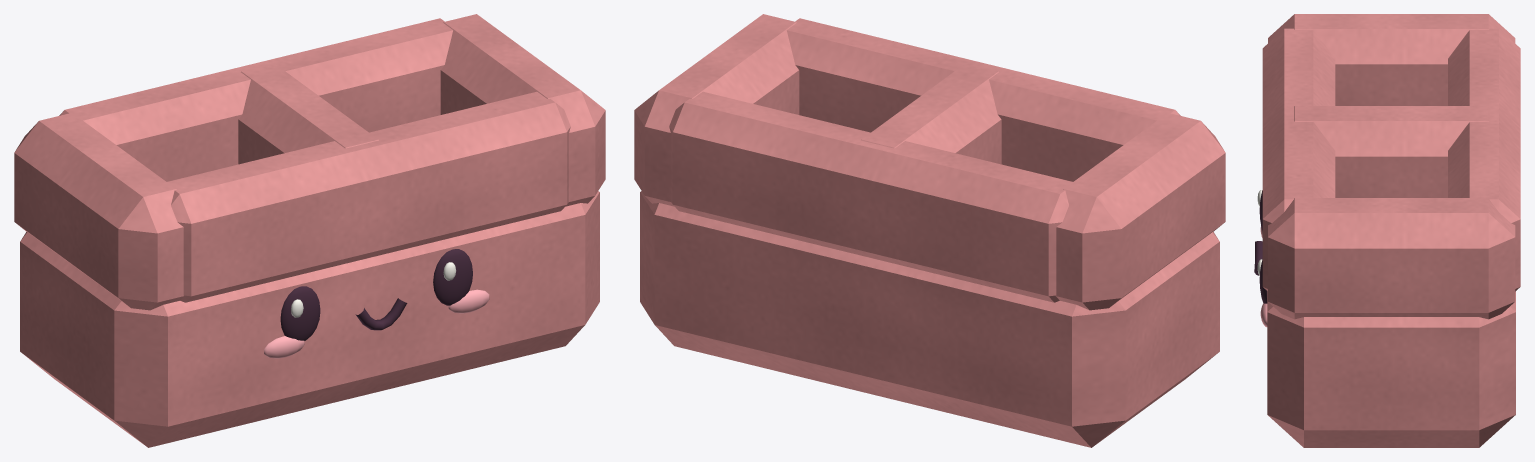
The model's file is block.glb.
The picture shows the model from 3 angles, left to right: view 1: azimuth 30°, elevation 25°; view 2: azimuth 150°, elevation 25°; view 3: azimuth 270°, elevation 25°; orthographic projection. The views are drawn at different scales.
Visible parts, largest first — view 1: block; view 2: block; view 3: block.
Part boxes in pixels (left/top/right/bottom): block: left=14, top=14, right=605, bottom=447; block: left=634, top=14, right=1225, bottom=447; block: left=1254, top=14, right=1520, bottom=447.
Bounding box in the file's own units: 0.843 × 0.425 × 0.4282.
Materials: 5 (1 with a texture image).
